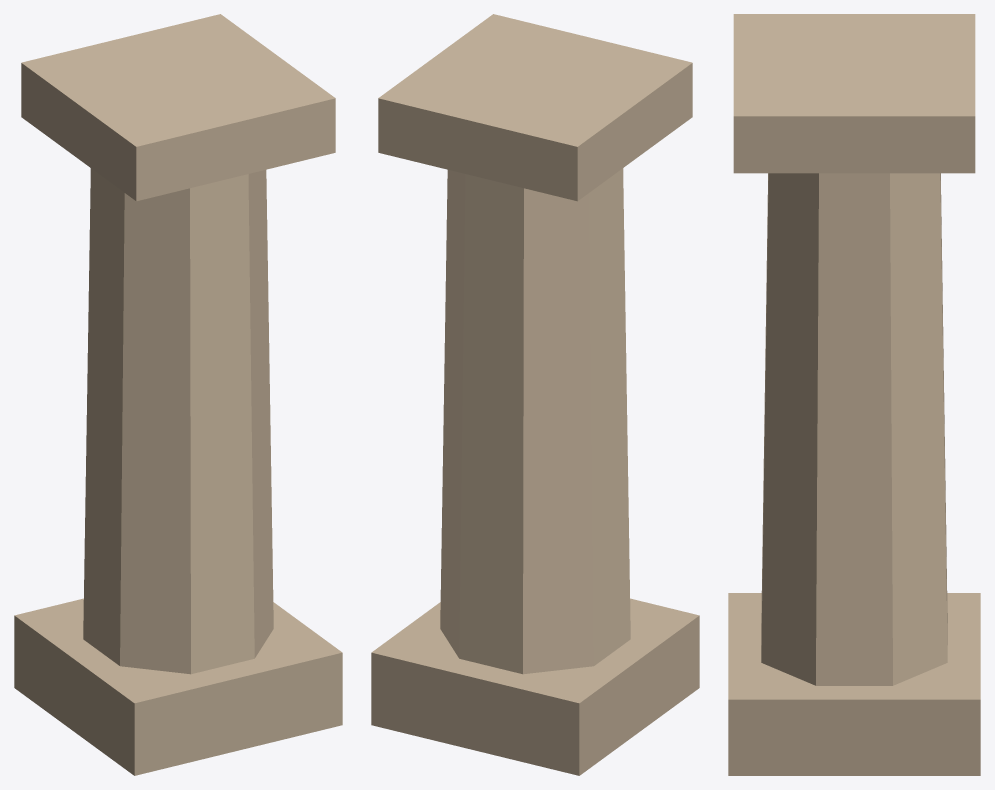
File: pillar_sandstone.glb
The picture shows the model from 3 angles, left to right: view 1: azimuth 30°, elevation 25°; view 2: azimuth 150°, elevation 25°; view 3: azimuth 270°, elevation 25°; orthographic projection. The views are drawn at different scales.
Visible parts, largest first — view 1: pillar_sandstone_1, pillar_sandstone_2, pillar_sandstone_0; view 2: pillar_sandstone_1, pillar_sandstone_2, pillar_sandstone_0; view 3: pillar_sandstone_1, pillar_sandstone_2, pillar_sandstone_0.
Part boxes in pixels (x1,y1,x2,y2): pillar_sandstone_1: (83, 168, 273, 674); pillar_sandstone_2: (21, 14, 335, 201); pillar_sandstone_0: (14, 598, 342, 775); pillar_sandstone_1: (440, 168, 630, 674); pillar_sandstone_2: (378, 14, 692, 201); pillar_sandstone_0: (371, 598, 699, 775); pillar_sandstone_1: (761, 173, 947, 685); pillar_sandstone_2: (733, 14, 975, 173); pillar_sandstone_0: (728, 593, 980, 775).
Size of the model in its own units: 1.2 by 3.45 by 1.2.
